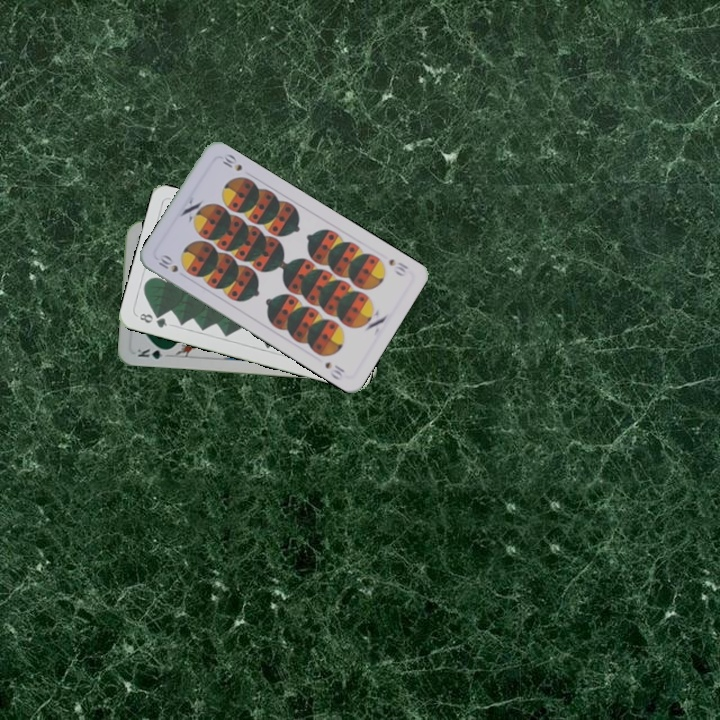G8: (135, 309, 170, 330)
GK: (133, 344, 173, 362)
S10: (385, 255, 411, 279), (154, 252, 181, 275)
